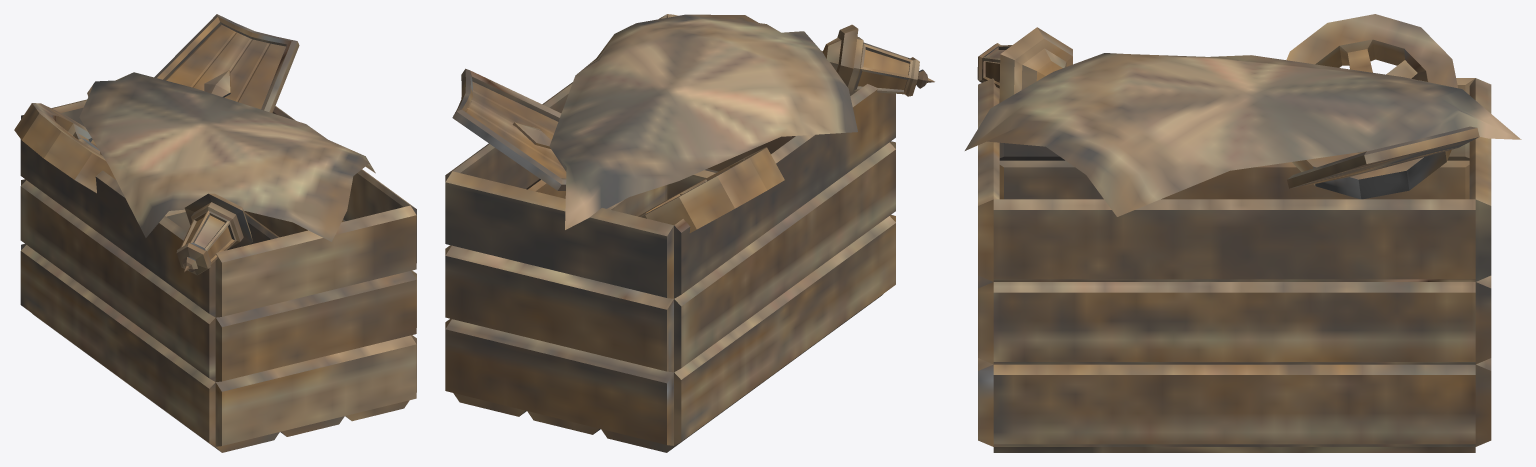
Rendered from Healthpack_v001.fbx.
3 views of the same model, side by side, from view 1: azimuth 30°, elevation 25°; view 2: azimuth 150°, elevation 25°; view 3: azimuth 270°, elevation 25° (orthographic). The views are drawn at different scales.
Parts seen in each view (by area): view 1: Healthpack; view 2: Healthpack; view 3: Healthpack.
Boxes of the visible parts, bbox=[...] form: Healthpack: bbox=[14, 14, 416, 452]; Healthpack: bbox=[445, 14, 934, 452]; Healthpack: bbox=[965, 14, 1521, 452].
Bounding box in the file's own units: 211 × 189 × 292.
